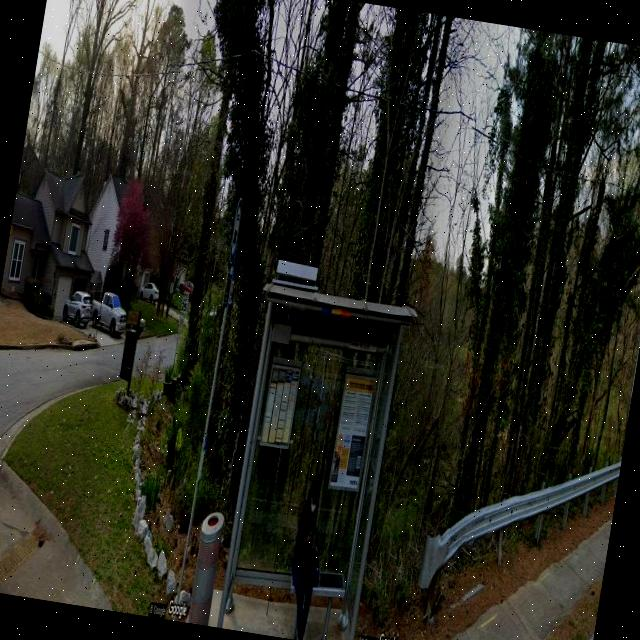seating: (280, 560, 349, 640)
shelter: (210, 273, 421, 640)
trash_can: (186, 509, 227, 626)
